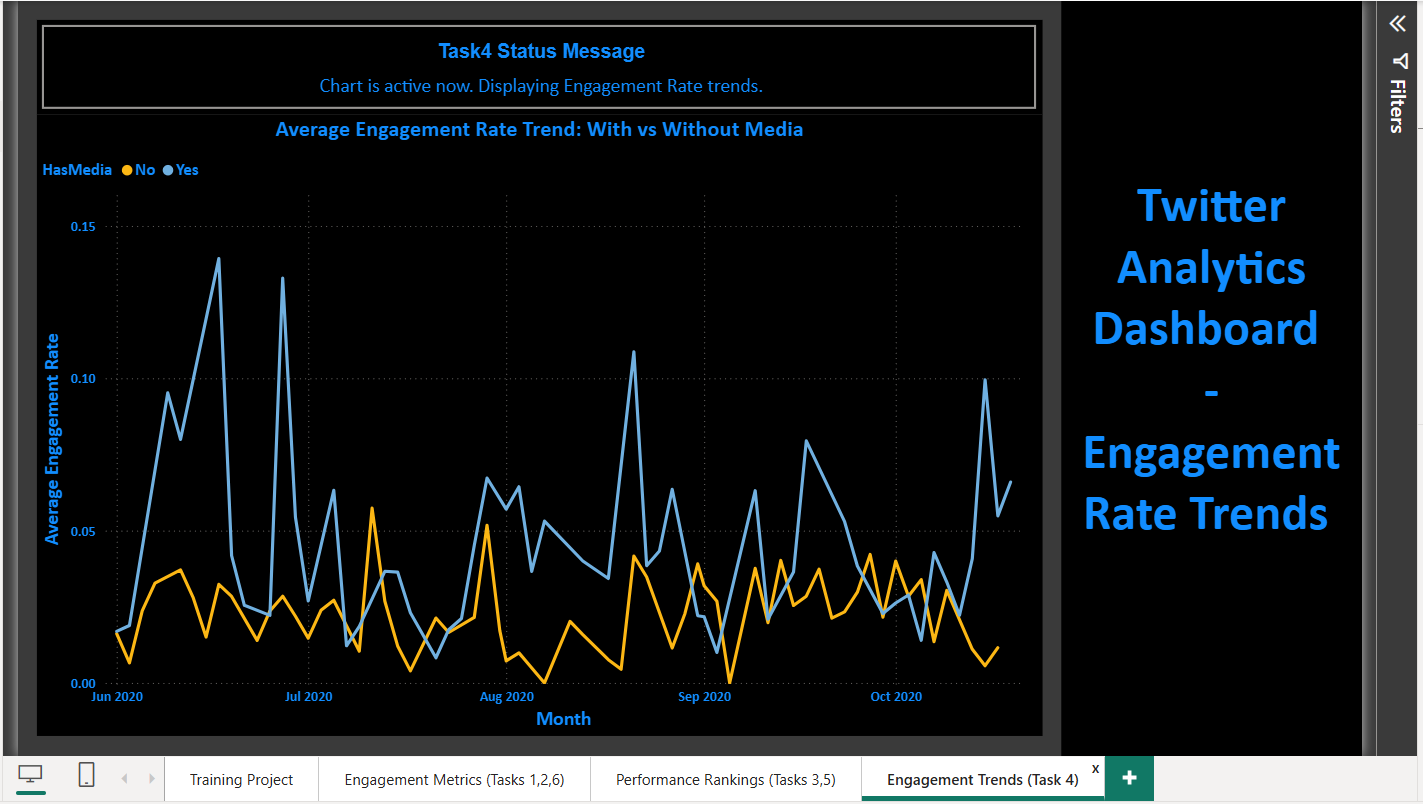

What the dashboard file says about the page in this screenshot:
{"tool":"powerbi","page":{"name":"Engagement Trends (Task 4)","canvas":[1280,720],"ordinal":3},"visuals":[{"type":"textbox","box":[993.2,0,286.2,719.6],"z":0},{"type":"lineChart","title":"Average Engagement Rate Trend: With vs Without Media","fields":{"Y":["Avg(SocialMedia (1).engagement rate)"],"Series":["SocialMedia (1).HasMedia"],"Category":["SocialMedia (1).Date.Variation.Date Hierarchy.Year","SocialMedia (1).Date.Variation.Date Hierarchy.Quarter","SocialMedia (1).Date.Variation.Date Hierarchy.Month","SocialMedia (1).Date.Variation.Date Hierarchy.Day"]},"box":[18,108,957.7,591.7],"z":1000},{"type":"cardVisual","fields":{"Data":["SocialMedia (1).Task4 Status Message"]},"box":[18,18,957.7,90],"z":2000}]}

Visuals, with their boxes on the page's 1280x720 design canvas (x1, y1, x2, y2). These are canvas units, not pixel positions in the 1423x804 screenshot, which may show the page scaled, cropped or inside an application window:
textbox: [x1=993, y1=0, x2=1279, y2=720]
"Average Engagement Rate Trend: With vs Without Media" lineChart: [x1=18, y1=108, x2=976, y2=700]
cardVisual - SocialMedia (1).Task4 Status Message: [x1=18, y1=18, x2=976, y2=108]
